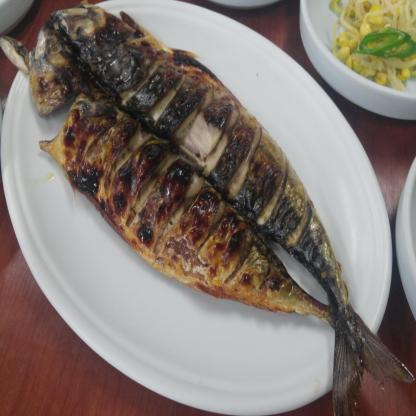Peixe: (11, 0, 416, 416)
